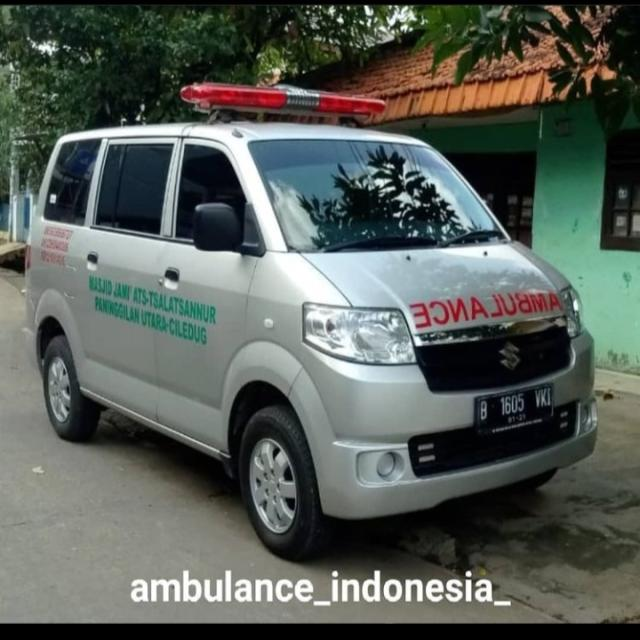emergency-vehicle: (22, 84, 608, 560)
